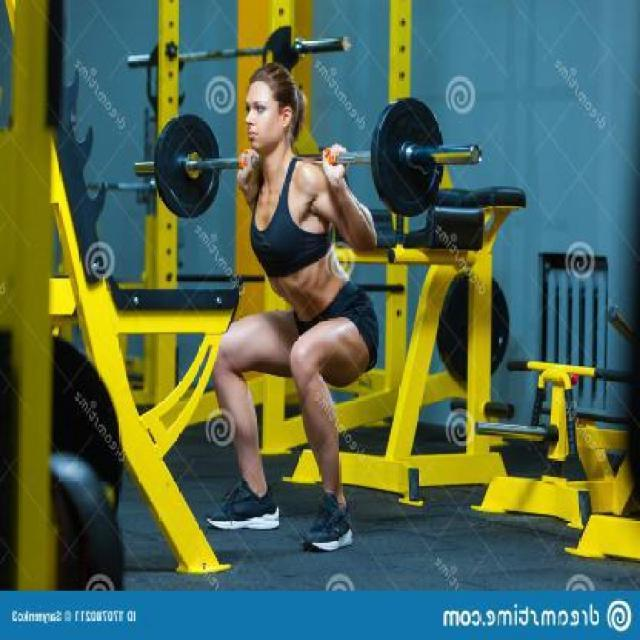Barbell: (466, 137, 485, 172)
